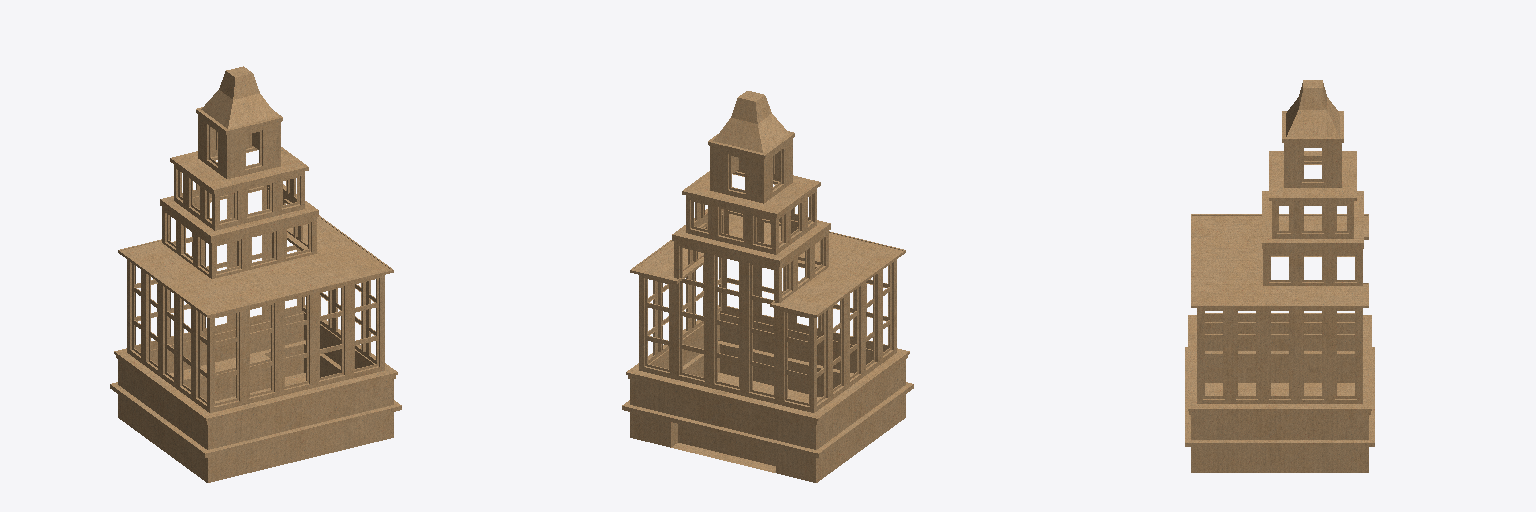
3 renders of one model, left to right at view 1: azimuth 30°, elevation 25°; view 2: azimuth 150°, elevation 25°; view 3: azimuth 270°, elevation 25°, orthographic.
Parts seen in each view (by area): view 1: Building_36; view 2: Building_36; view 3: Building_36.
Boxes of the visible parts, box(x1,y1,x2,y2) form: Building_36: box(110, 66, 401, 482); Building_36: box(622, 91, 913, 482); Building_36: box(1185, 80, 1374, 472).
Size of the model in its own units: 1834 by 3060 by 1539.
1 materials, 1 textured.